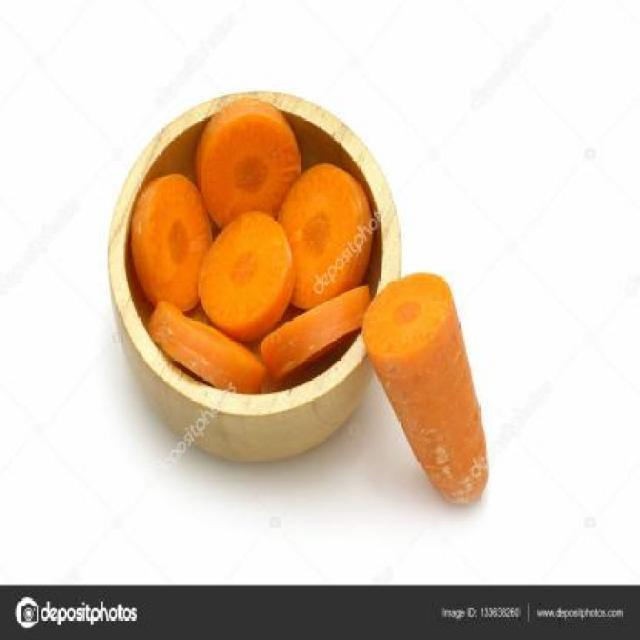carrot: (364, 268, 492, 508)
